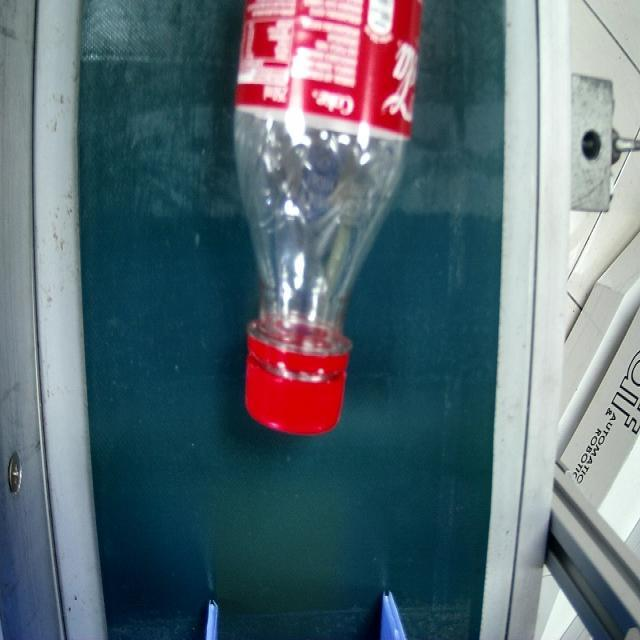Pet_Bottle: (231, 0, 419, 432)
